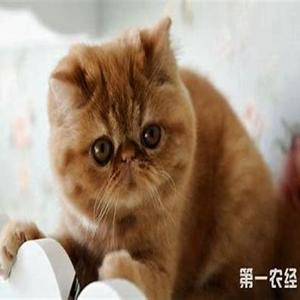cat: (59, 57, 241, 262)
